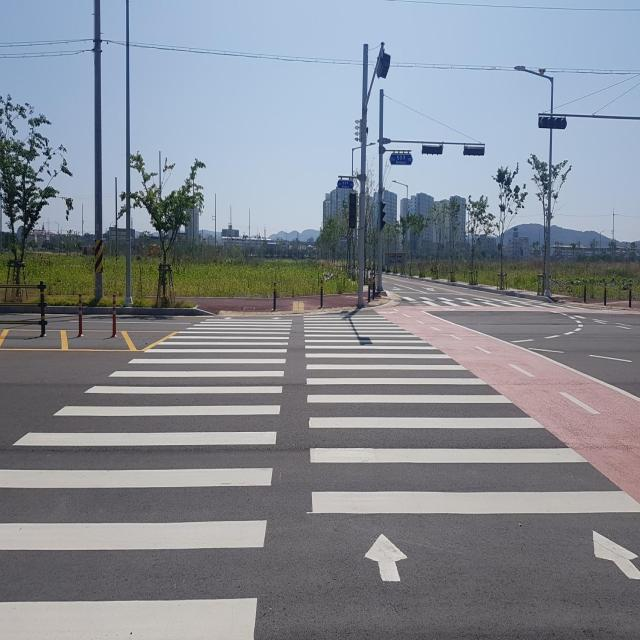횡단보도: (0, 312, 640, 640), (395, 291, 557, 310)
